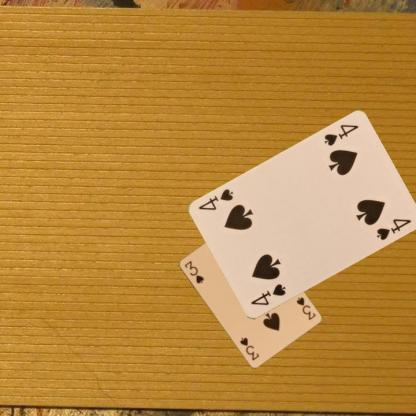3s: (182, 258, 205, 285), (294, 294, 316, 321)
4s: (248, 282, 286, 308), (322, 122, 360, 148)
